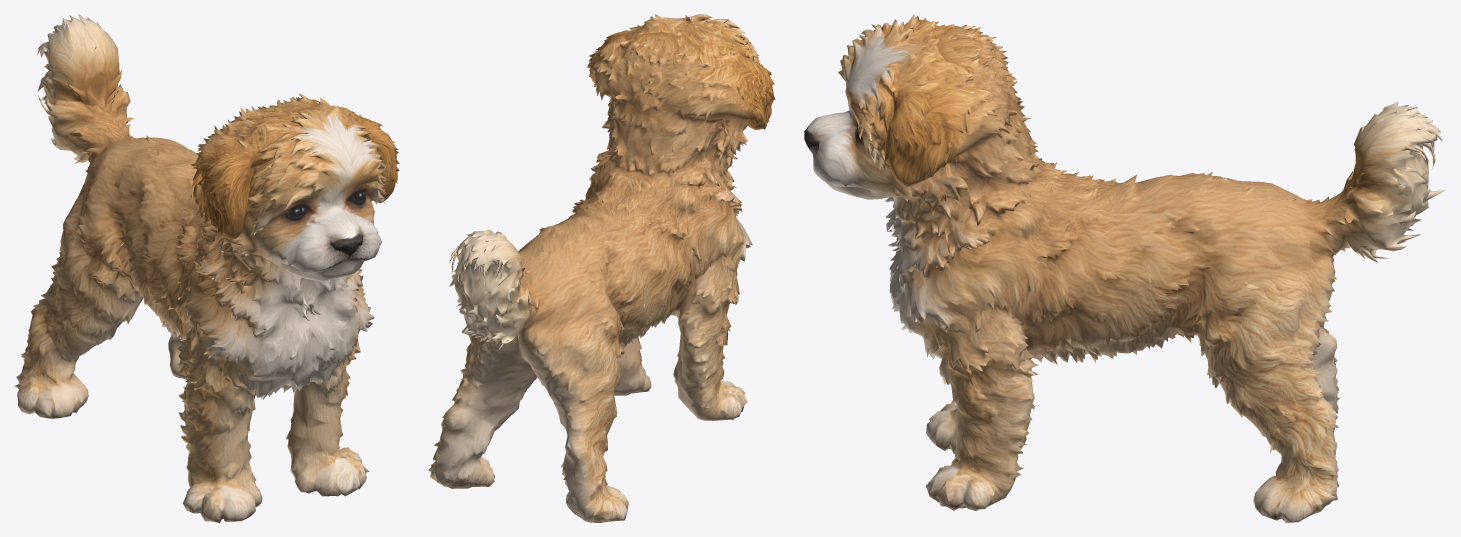
Rendered from puppy.glb.
The picture shows the model from 3 angles, left to right: view 1: azimuth 30°, elevation 25°; view 2: azimuth 150°, elevation 25°; view 3: azimuth 270°, elevation 25°; orthographic projection. The views are drawn at different scales.
Visible parts, largest first — view 1: tripo_node_4339a2a2-677a-4fb8-846e-ce4df7ee321a; view 2: tripo_node_4339a2a2-677a-4fb8-846e-ce4df7ee321a; view 3: tripo_node_4339a2a2-677a-4fb8-846e-ce4df7ee321a.
Boxes of the visible parts, x1,y1,x2,y2 form: tripo_node_4339a2a2-677a-4fb8-846e-ce4df7ee321a: [14, 14, 399, 522]; tripo_node_4339a2a2-677a-4fb8-846e-ce4df7ee321a: [428, 14, 775, 522]; tripo_node_4339a2a2-677a-4fb8-846e-ce4df7ee321a: [804, 14, 1445, 522].
Size of the model in its own units: 0.4169 by 0.7595 by 1.
1 material, 1 textured.
